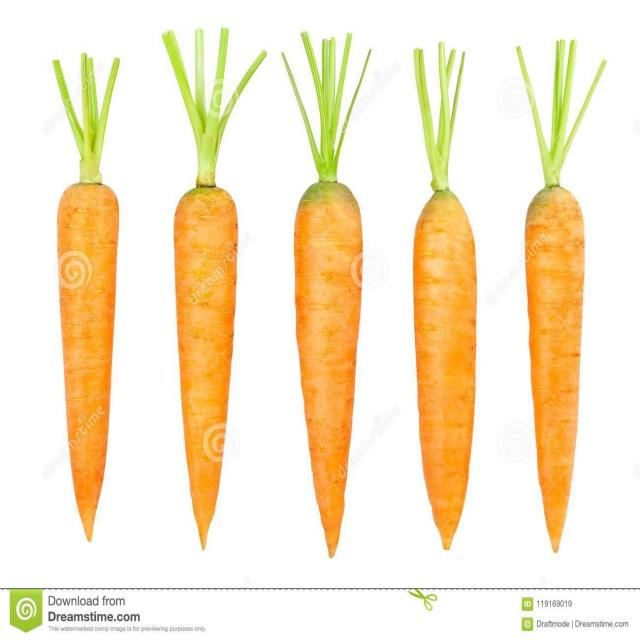Carrot: (160, 30, 268, 548), (275, 33, 375, 563), (510, 34, 607, 562), (42, 58, 138, 537), (402, 49, 484, 557)
